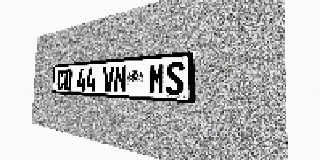4: (86, 67, 96, 91), (77, 68, 87, 91)
C: (57, 70, 64, 90)
D: (64, 69, 72, 90)
M: (149, 63, 165, 95)
N: (114, 65, 127, 93)
S: (166, 61, 184, 95)
V: (102, 66, 114, 92)
